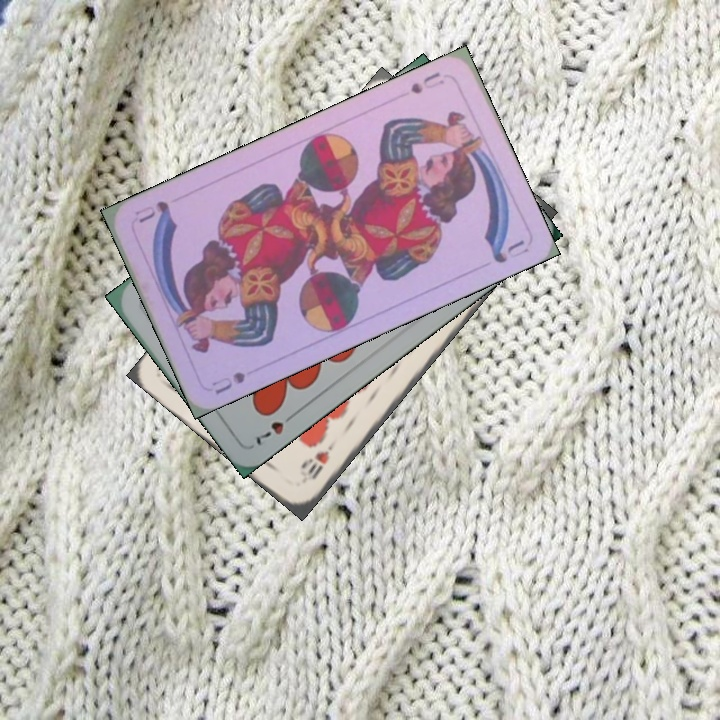H10: (303, 436, 339, 483)
H7: (251, 407, 300, 449)
SU: (208, 367, 248, 398), (406, 68, 447, 97)
